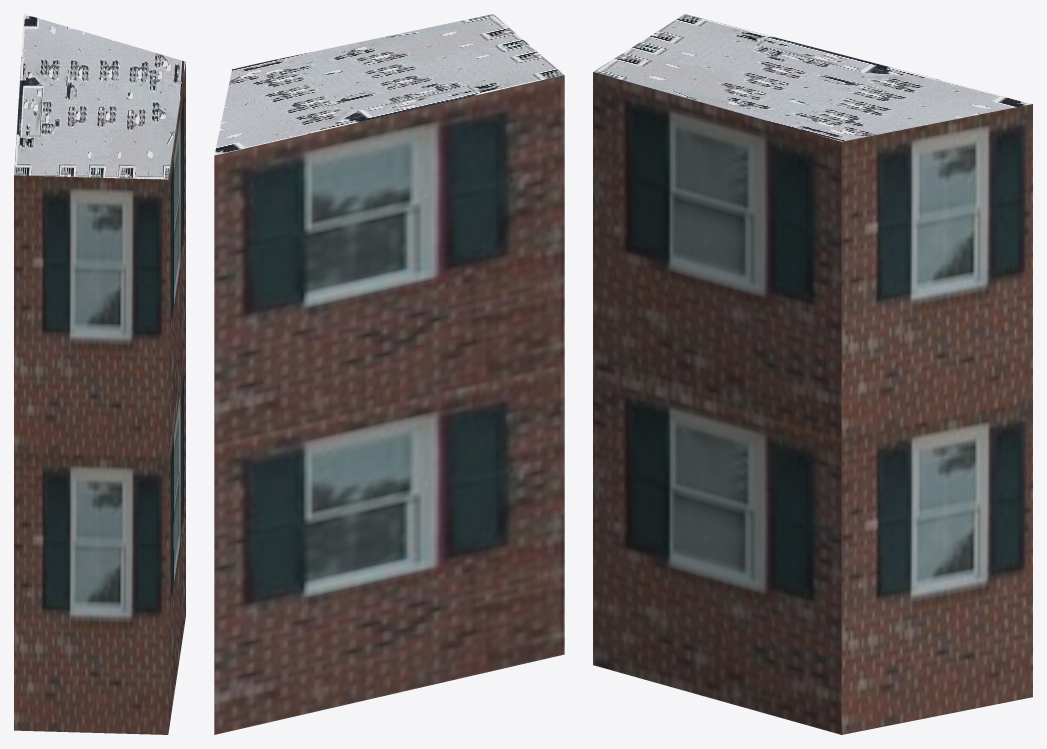
Rendered from ResTex__4868.fbx.
The picture shows the model from 3 angles, left to right: view 1: azimuth 30°, elevation 25°; view 2: azimuth 150°, elevation 25°; view 3: azimuth 270°, elevation 25°; orthographic projection. The views are drawn at different scales.
Visible parts, largest first — view 1: CityEngineMaterial_14_m, CityEngineMaterial_4_m; view 2: CityEngineMaterial_14_m, CityEngineMaterial_4_m; view 3: CityEngineMaterial_14_m, CityEngineMaterial_4_m.
Part boxes in pixels (x1=…): CityEngineMaterial_14_m: x1=14, y1=62, x2=185, y2=734; CityEngineMaterial_4_m: x1=14, y1=14, x2=185, y2=179; CityEngineMaterial_14_m: x1=214, y1=75, x2=564, y2=734; CityEngineMaterial_4_m: x1=214, y1=14, x2=564, y2=155; CityEngineMaterial_14_m: x1=593, y1=72, x2=1032, y2=734; CityEngineMaterial_4_m: x1=593, y1=14, x2=1031, y2=141.
Size of the model in its own units: 2.77 by 6 by 4.03.
2 materials, 2 textured.
